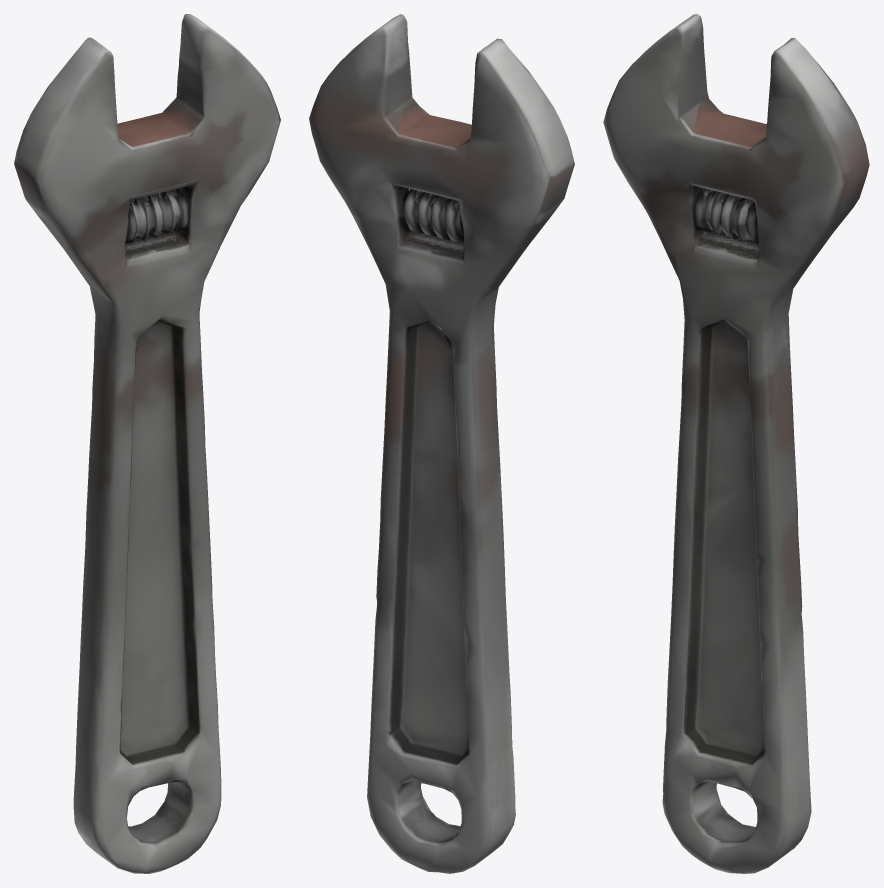
The model's file is Dirty_Wrench_1111073521_texture.fbx.
3 views of the same model, side by side, from view 1: azimuth 30°, elevation 25°; view 2: azimuth 150°, elevation 25°; view 3: azimuth 330°, elevation 25° (orthographic).
Parts seen in each view (by area): view 1: Mesh_0; view 2: Mesh_0; view 3: Mesh_0.
Boxes of the visible parts, x1,y1,x2,y2 form: Mesh_0: [14, 14, 280, 873]; Mesh_0: [309, 14, 574, 873]; Mesh_0: [603, 14, 869, 873].
Size of the model in its own units: 59.47 by 191 by 13.97.
Materials: 1 (1 with a texture image).
